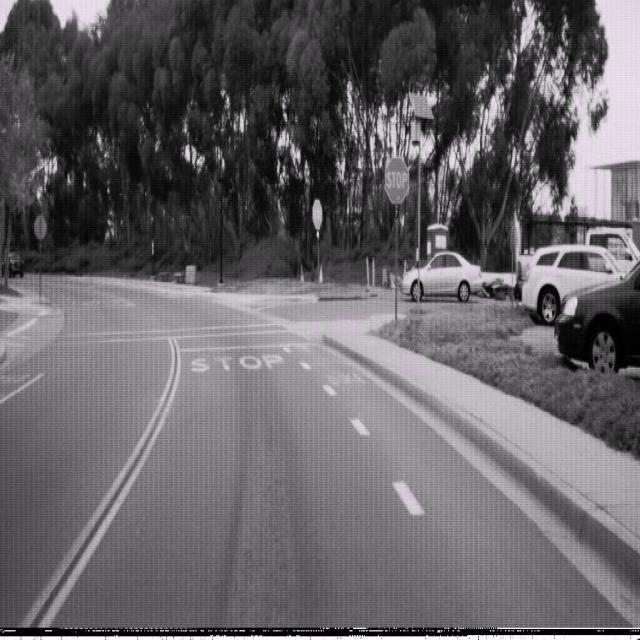stop_sign: (384, 154, 410, 205), (312, 197, 322, 232)
